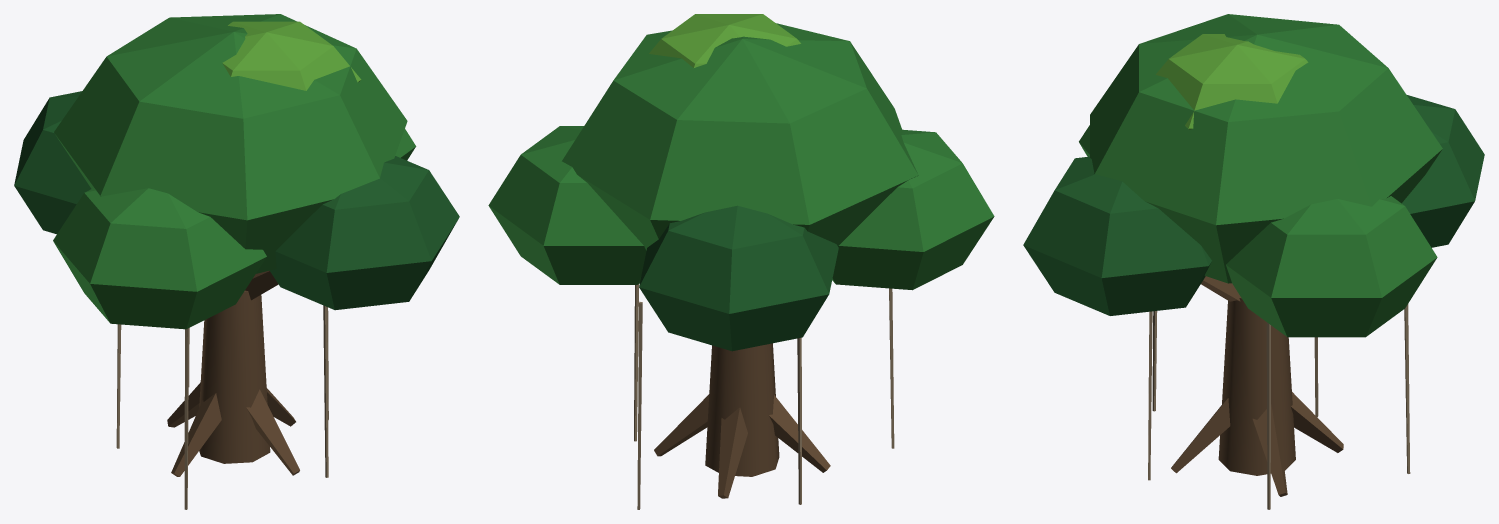
The model's file is pohon_beringin.glb.
3 renders of one model, left to right at view 1: azimuth 30°, elevation 25°; view 2: azimuth 150°, elevation 25°; view 3: azimuth 270°, elevation 25°, orthographic. The views are drawn at different scales.
Visible parts, largest first — view 1: body; view 2: body; view 3: body.
Part boxes in pixels (x1=…): body: x1=14, y1=14, x2=459, y2=509; body: x1=488, y1=14, x2=994, y2=509; body: x1=1023, y1=14, x2=1484, y2=509.
Size of the model in its own units: 13.51 by 14.09 by 13.73.
Materials: 1 (1 with a texture image).
